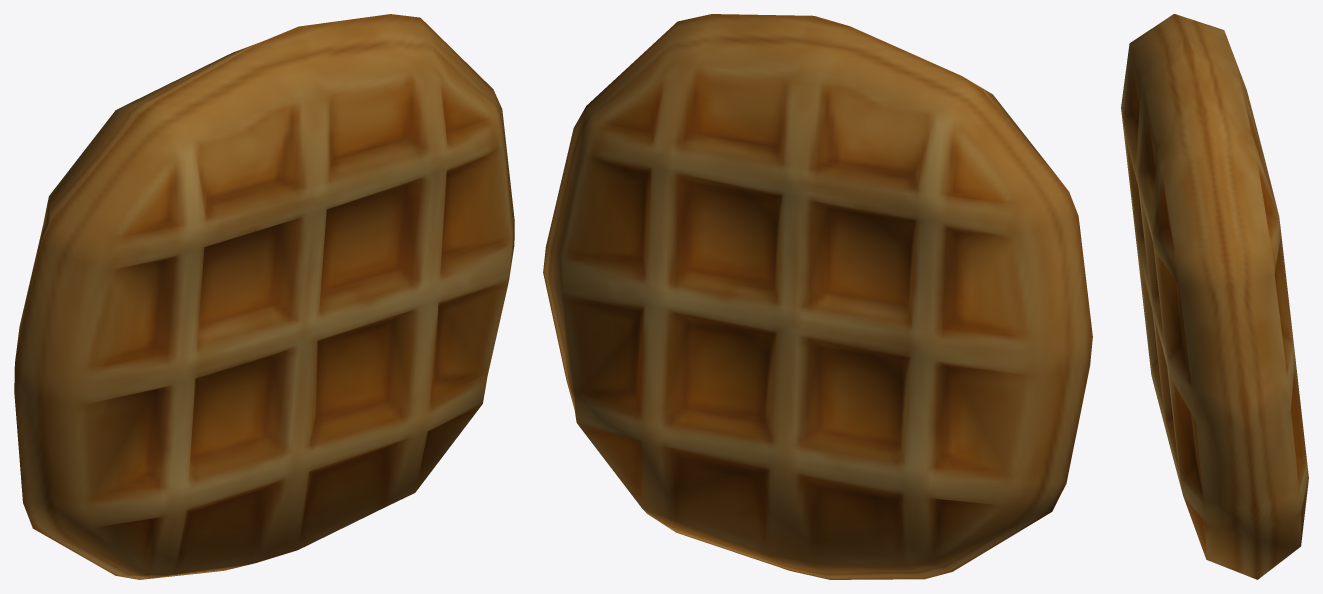
File: waffle.glb
3 renders of one model, left to right at view 1: azimuth 30°, elevation 25°; view 2: azimuth 150°, elevation 25°; view 3: azimuth 270°, elevation 25°, orthographic. The views are drawn at different scales.
Visible parts, largest first — view 1: geometry_0; view 2: geometry_0; view 3: geometry_0.
Part boxes in pixels (bbox=[...]): geometry_0: bbox=[14, 14, 514, 579]; geometry_0: bbox=[543, 14, 1092, 579]; geometry_0: bbox=[1121, 14, 1308, 579].
Bounding box in the file's own units: 0.3645 × 0.3604 × 0.1229.
1 material, 1 textured.
